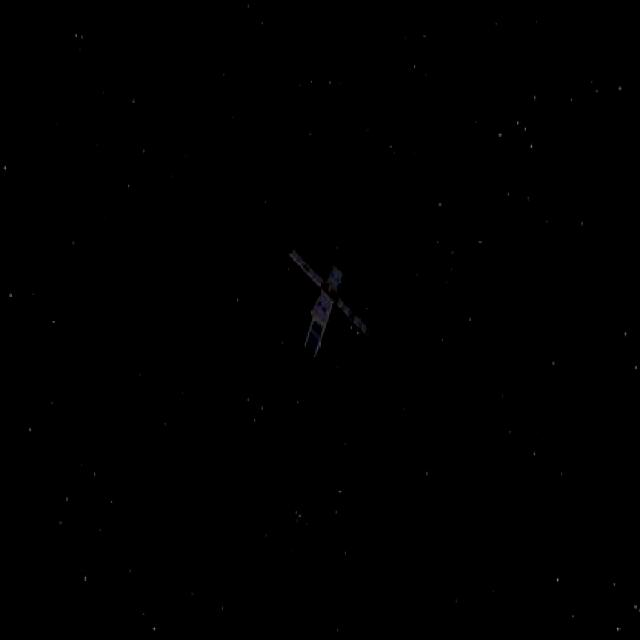medium_debris: (288, 234, 381, 366)
